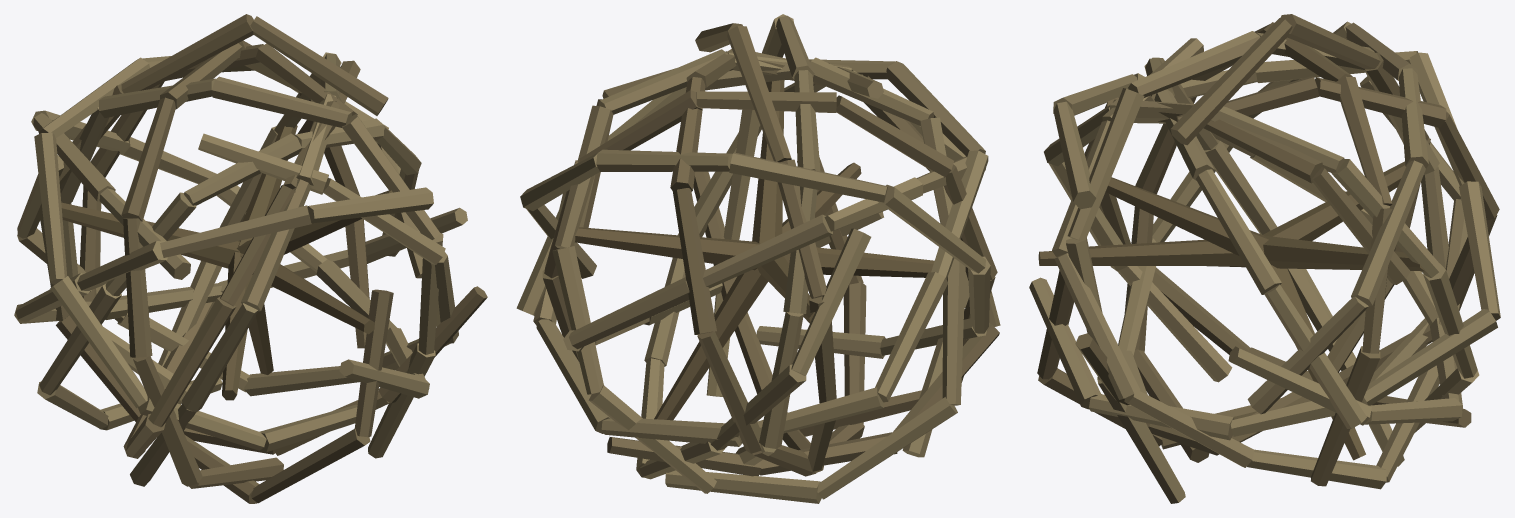
The picture shows the model from 3 angles, left to right: view 1: azimuth 30°, elevation 25°; view 2: azimuth 150°, elevation 25°; view 3: azimuth 270°, elevation 25°; orthographic projection. The views are drawn at different scales.
Parts seen in each view (by area): view 1: desert-tumbleweed; view 2: desert-tumbleweed; view 3: desert-tumbleweed.
Part boxes in pixels (left/top/right/bottom): desert-tumbleweed: left=14, top=14, right=487, bottom=503; desert-tumbleweed: left=516, top=14, right=1000, bottom=503; desert-tumbleweed: left=1029, top=14, right=1500, bottom=503.
Bounding box in the file's own units: 0.6884 × 0.6881 × 0.6374.
